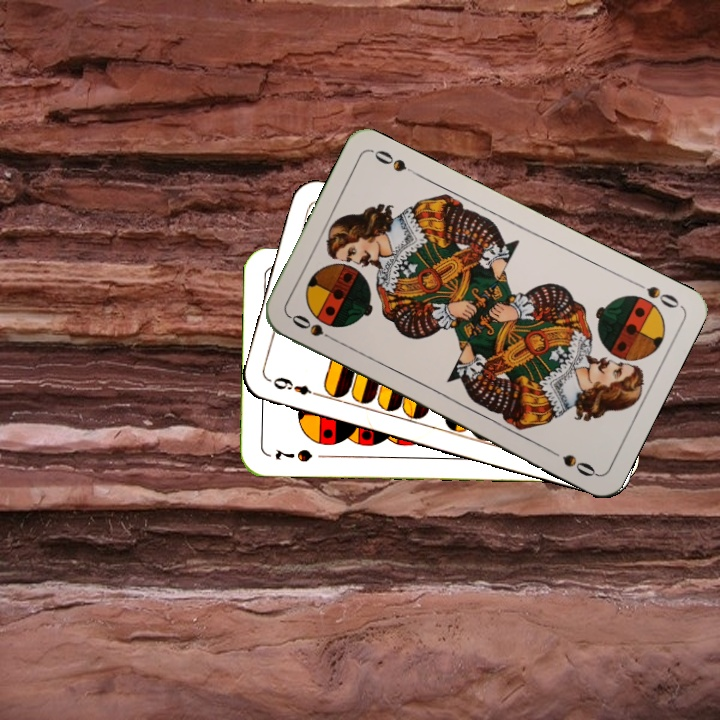E9: (267, 372, 325, 400)
S7: (271, 445, 315, 465)
SO: (286, 310, 341, 346), (628, 277, 682, 311)
